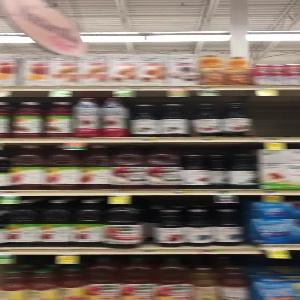void: (253, 89, 300, 136)
